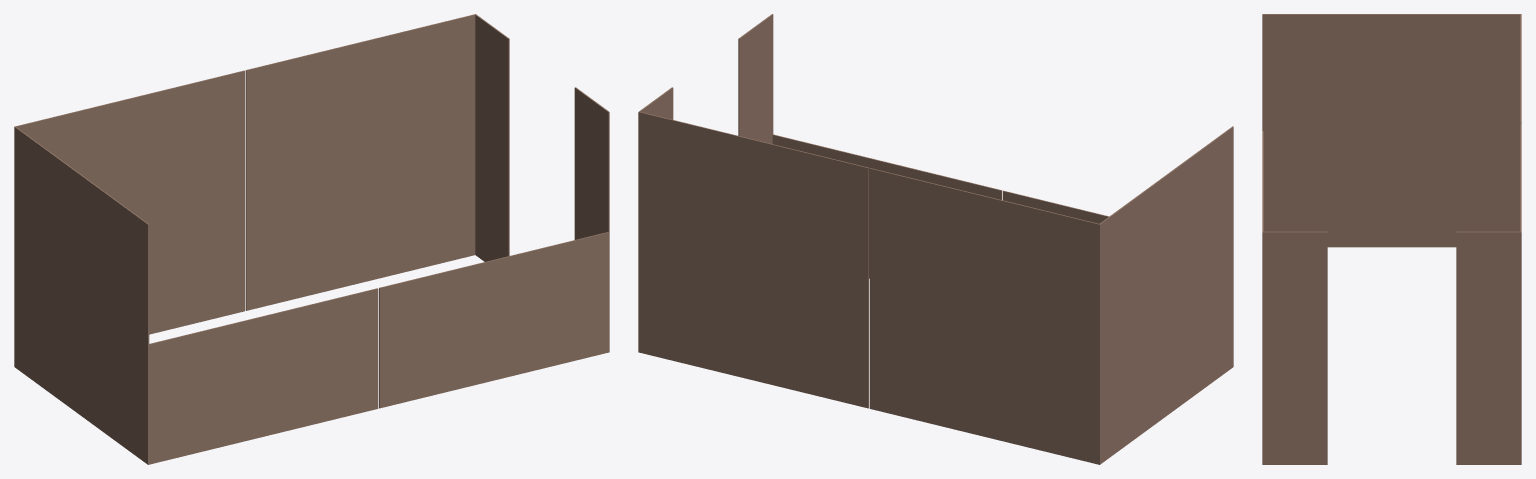
The model's file is awingWallTwo.gltf.
3 renders of one model, left to right at view 1: azimuth 30°, elevation 25°; view 2: azimuth 150°, elevation 25°; view 3: azimuth 270°, elevation 25°, orthographic. The views are drawn at different scales.
Parts seen in each view (by area): view 1: awingWallTwo; view 2: awingWallTwo; view 3: awingWallTwo.
Boxes of the visible parts, x1,y1,x2,y2 form: awingWallTwo: [14, 14, 609, 464]; awingWallTwo: [638, 14, 1233, 464]; awingWallTwo: [1262, 14, 1521, 464].
Bounding box in the file's own units: 4.02 × 2 × 2.02.
